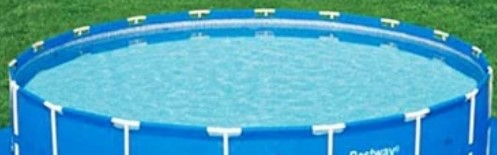havuz: (8, 8, 490, 155)
